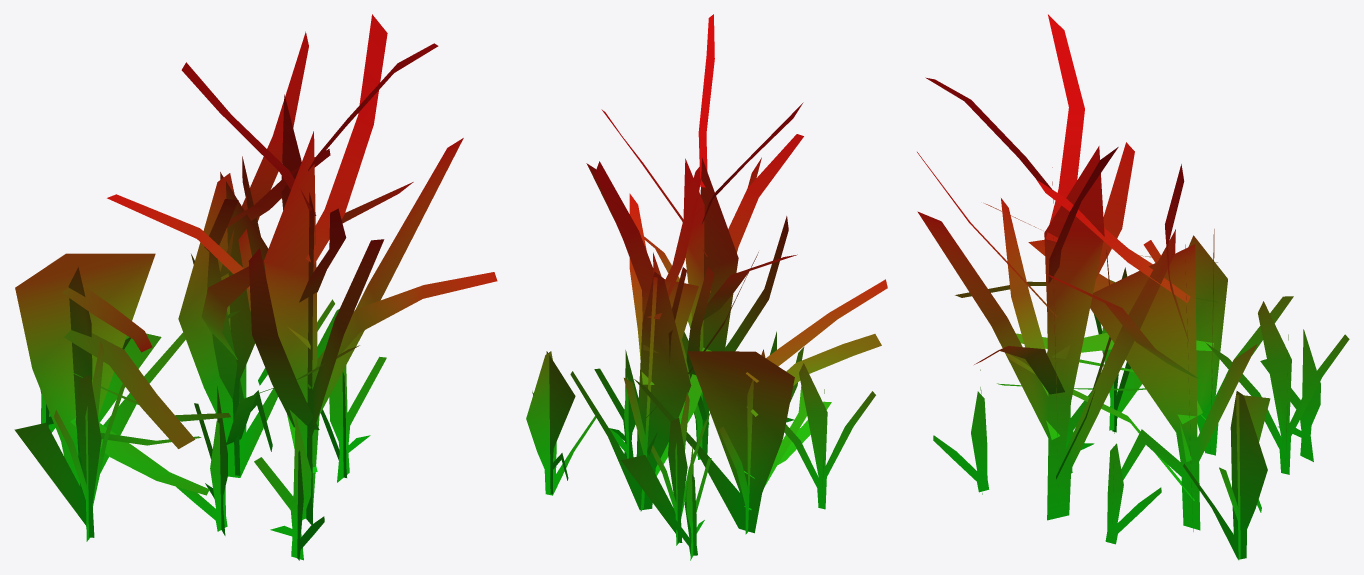
The model's file is Var5_LOD1.fbx.
3 renders of one model, left to right at view 1: azimuth 30°, elevation 25°; view 2: azimuth 150°, elevation 25°; view 3: azimuth 270°, elevation 25°, orthographic. The views are drawn at different scales.
Visible parts, largest first — view 1: _ny8i_Var5_LOD1; view 2: _ny8i_Var5_LOD1; view 3: _ny8i_Var5_LOD1.
Part boxes in pixels (x1=…): _ny8i_Var5_LOD1: x1=14, y1=14, x2=497, y2=560; _ny8i_Var5_LOD1: x1=526, y1=14, x2=887, y2=560; _ny8i_Var5_LOD1: x1=917, y1=14, x2=1349, y2=560.
Size of the model in its own units: 18.28 by 23.37 by 19.13.
